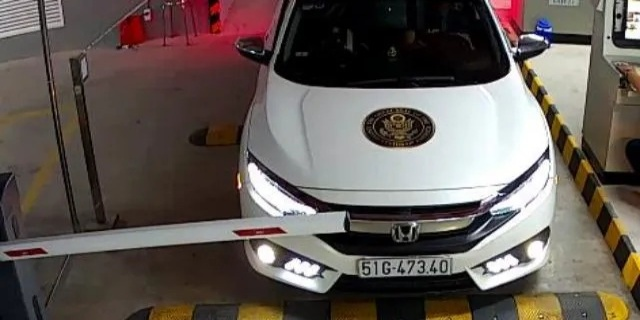bien_so: (359, 255, 453, 278)
